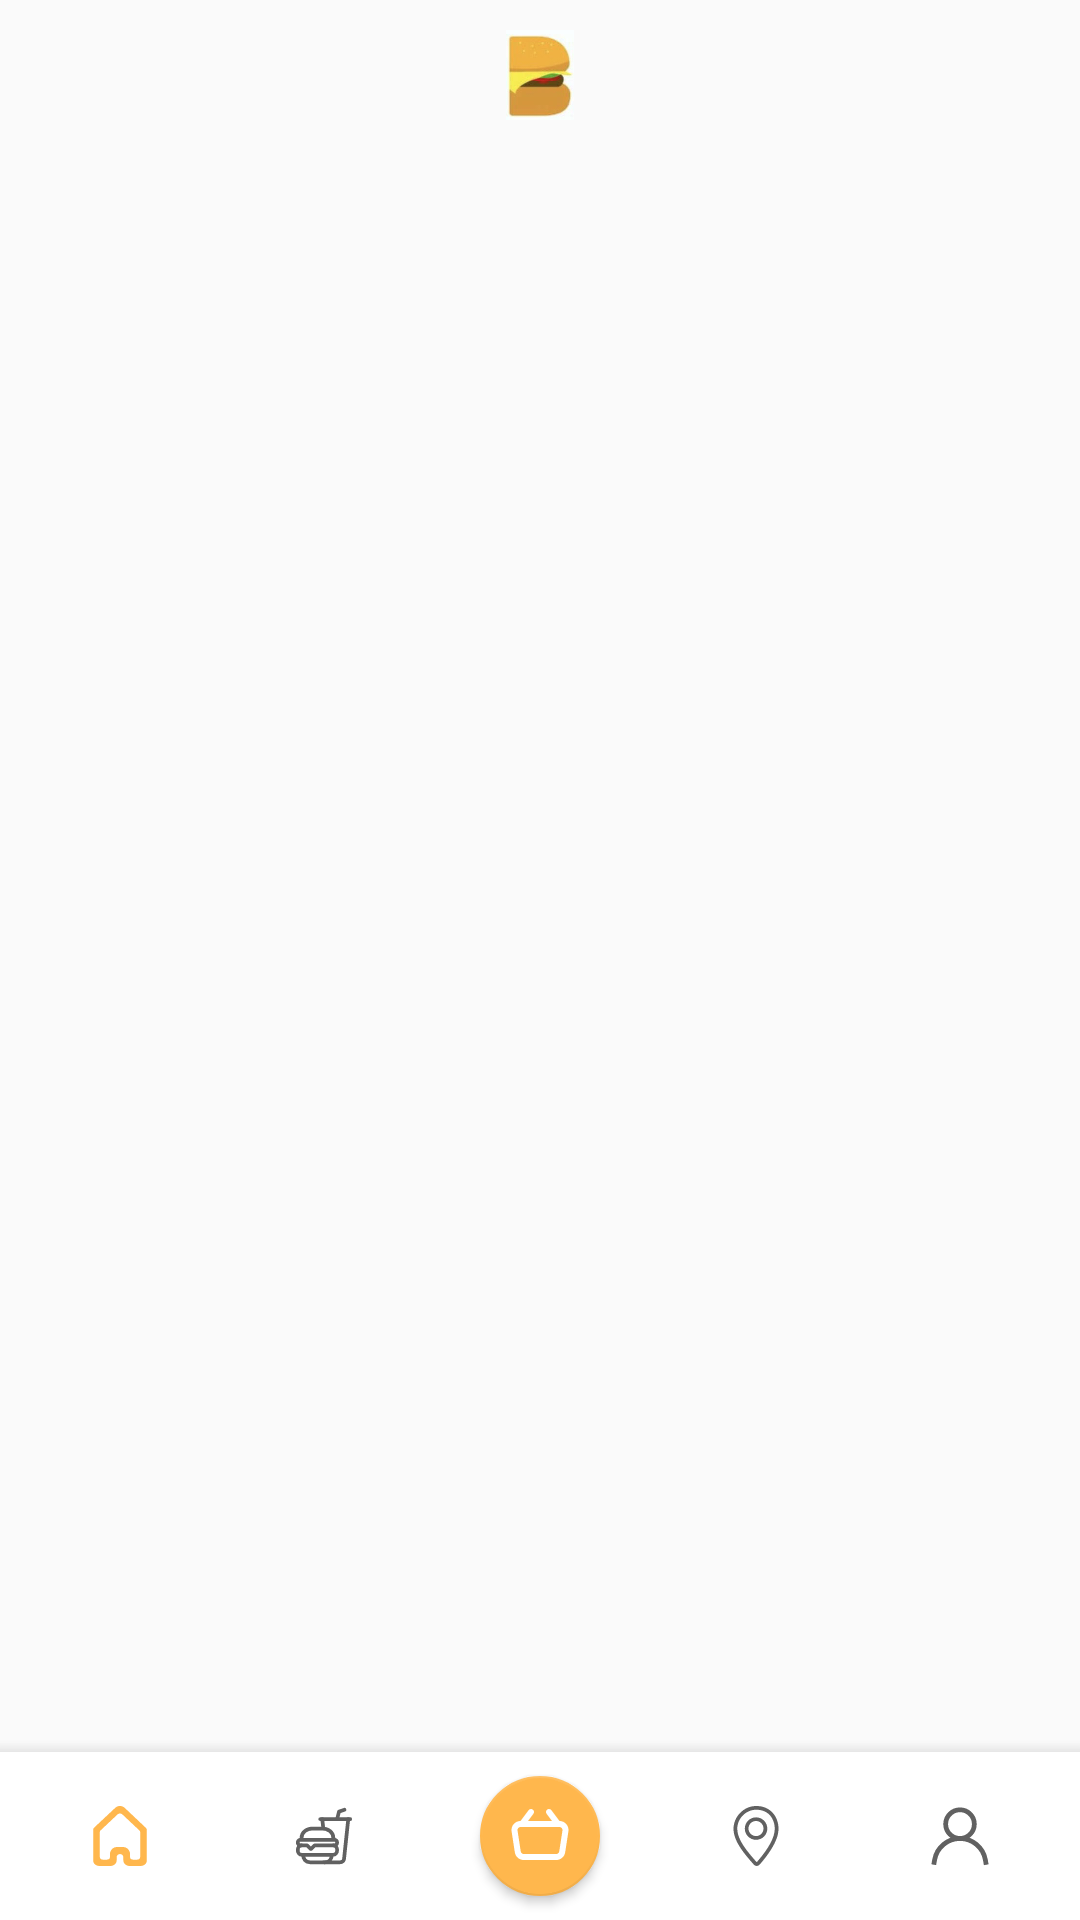

Where to tap for icons on this 1080 x 1920 app screen, as (x,y):
account: (960,1836)
cart: (540,1836)
fastfood: (324,1836)
home: (120,1836)
location: (756,1836)
